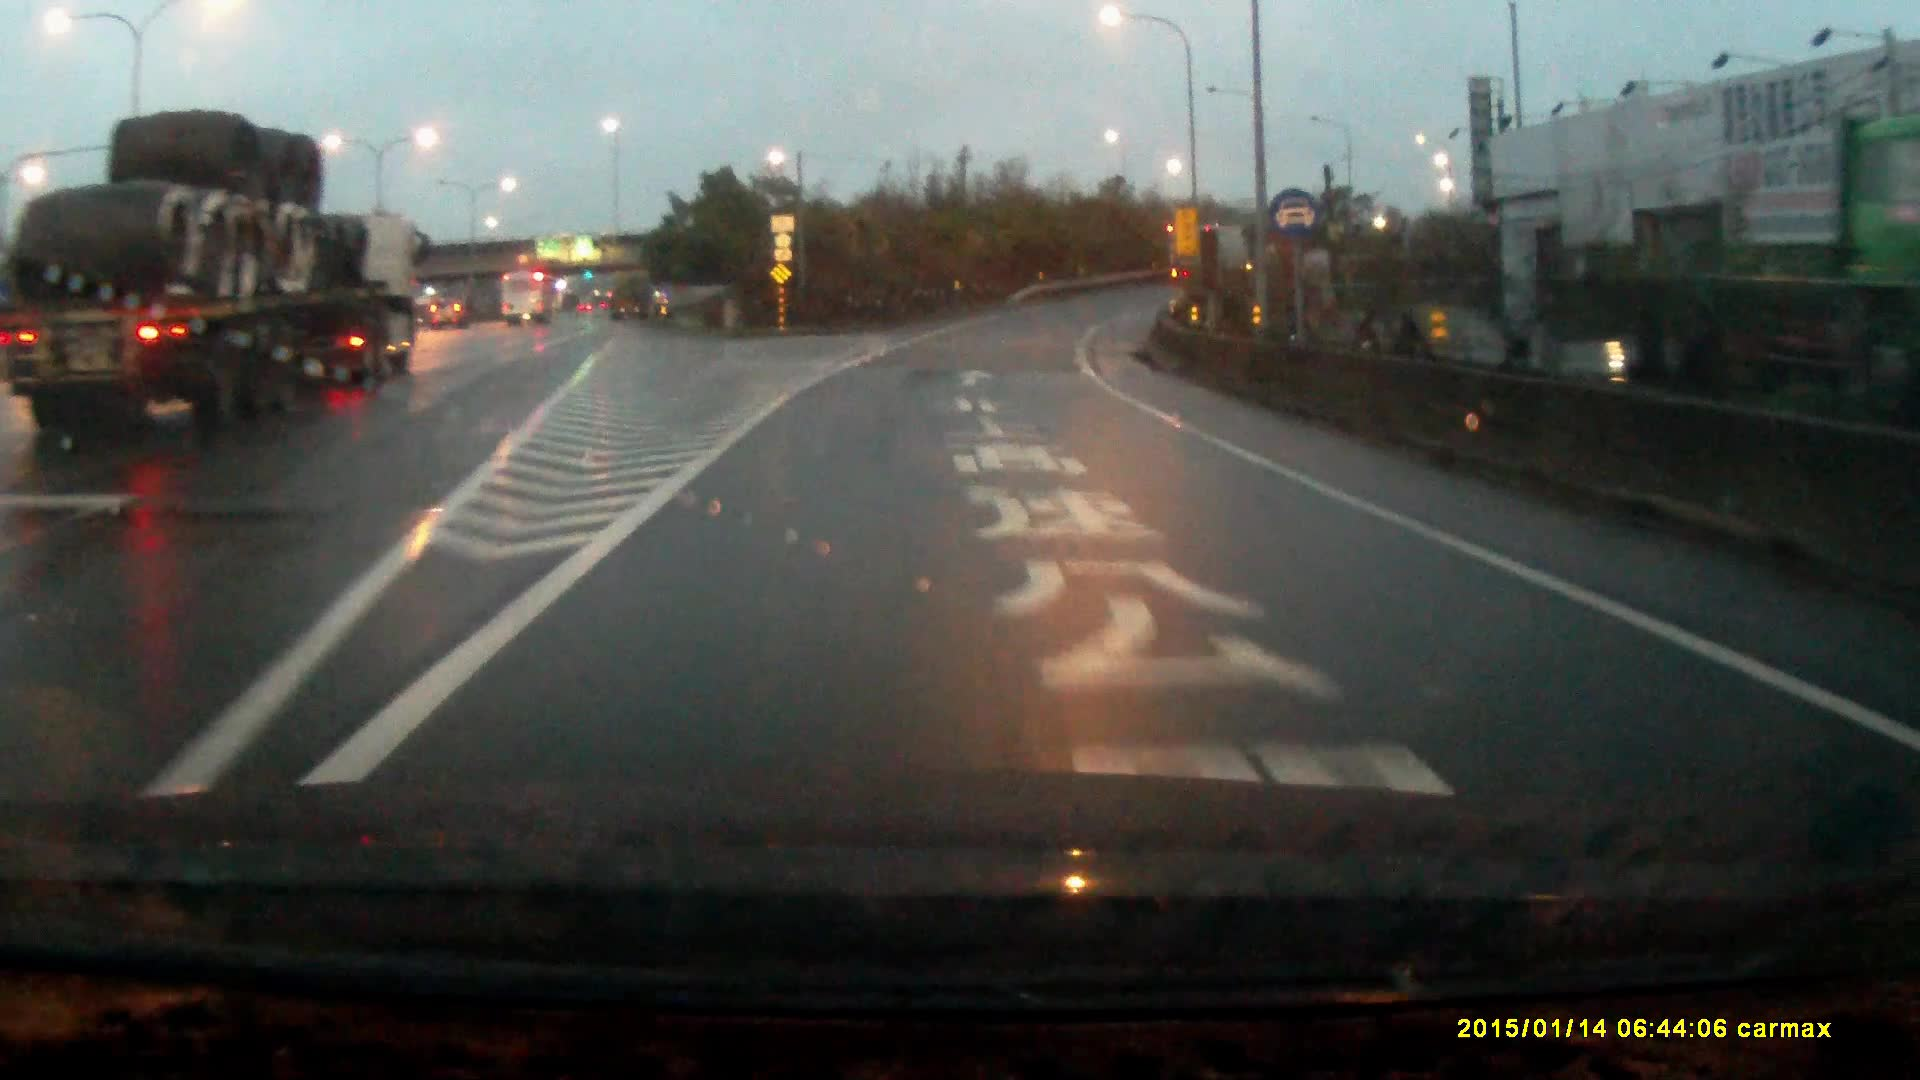vehicle: (21, 111, 423, 430), (501, 273, 560, 330), (430, 298, 469, 332)
